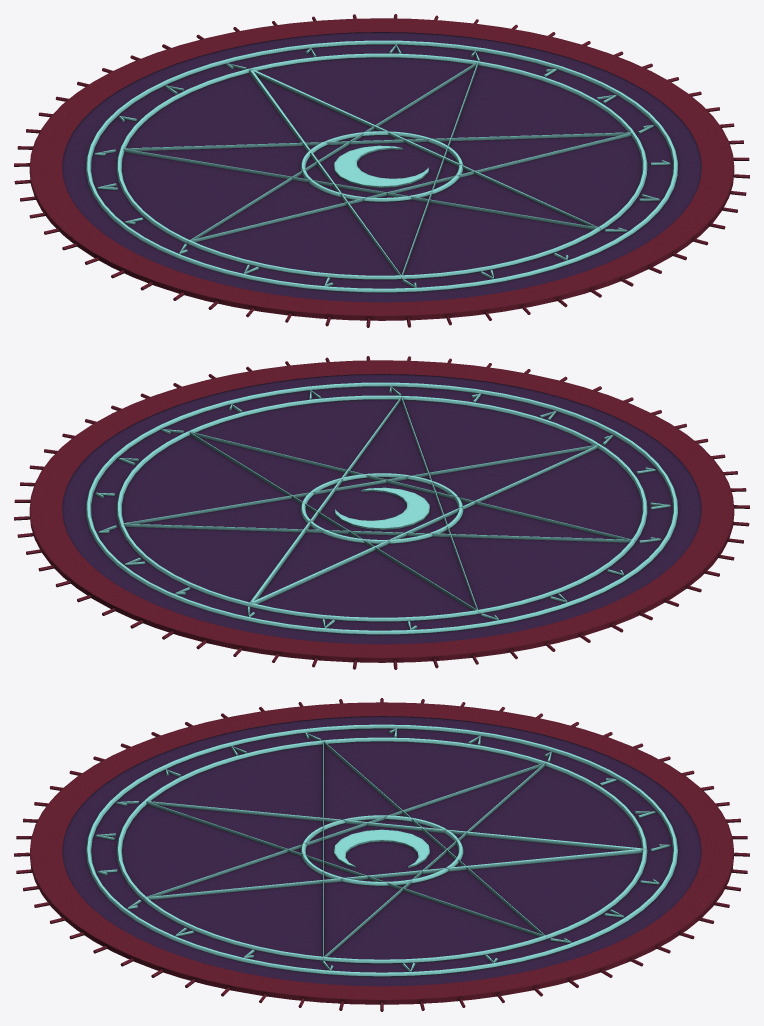
File: RuneCircleRug.fbx
3 views of the same model, one above another, from view 1: azimuth 30°, elevation 25°; view 2: azimuth 150°, elevation 25°; view 3: azimuth 270°, elevation 25° (orthographic).
Parts seen in each view (by area): view 1: RuneCircleRug_Main, RuneCircleRug_Glow; view 2: RuneCircleRug_Main, RuneCircleRug_Glow; view 3: RuneCircleRug_Main, RuneCircleRug_Glow.
Boxes of the visible parts, bbox=[...] form: RuneCircleRug_Main: bbox=[14, 14, 749, 327]; RuneCircleRug_Glow: bbox=[86, 40, 677, 292]; RuneCircleRug_Main: bbox=[14, 356, 749, 669]; RuneCircleRug_Glow: bbox=[86, 382, 677, 634]; RuneCircleRug_Main: bbox=[14, 698, 749, 1011]; RuneCircleRug_Glow: bbox=[86, 724, 677, 976].
Size of the model in its own units: 840 by 9.13 by 840.
